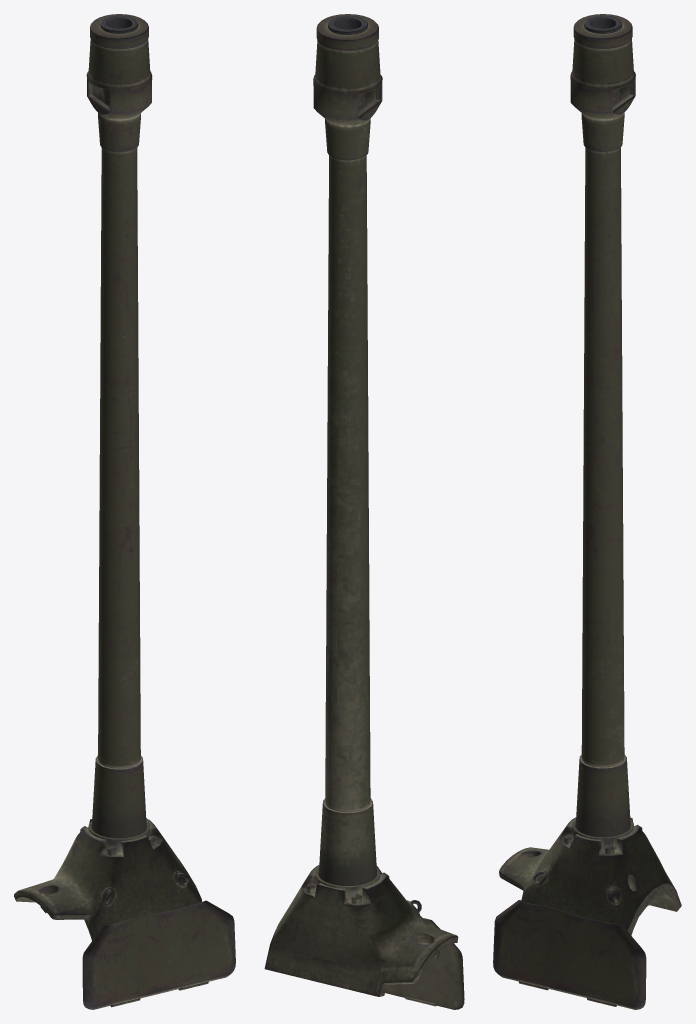
Rendered from Gun_03.glb.
The picture shows the model from 3 angles, left to right: view 1: azimuth 30°, elevation 25°; view 2: azimuth 150°, elevation 25°; view 3: azimuth 330°, elevation 25°; orthographic projection. The views are drawn at different scales.
Parts seen in each view (by area): view 1: set_0_group_0; view 2: set_0_group_0; view 3: set_0_group_0.
Boxes of the visible parts, bbox=[...] form: set_0_group_0: bbox=[14, 14, 235, 1009]; set_0_group_0: bbox=[264, 14, 464, 1009]; set_0_group_0: bbox=[493, 14, 681, 1009].
Size of the model in its own units: 0.929 by 5.07 by 0.6257.
Materials: 1 (1 with a texture image).
